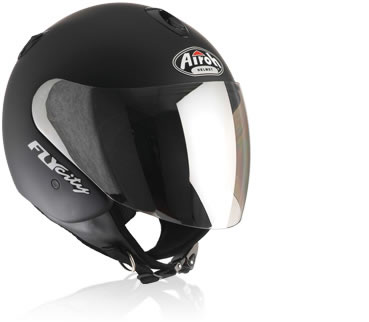helmet: (13, 10, 254, 277)
